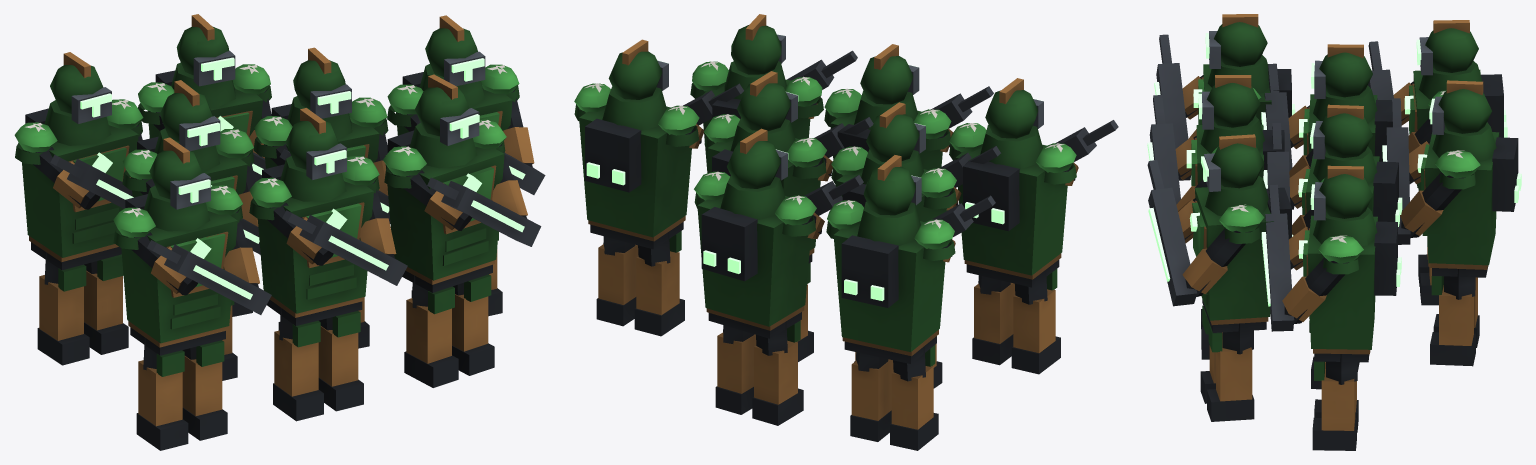
File: squad_dl8_green.glb
3 renders of one model, left to right at view 1: azimuth 30°, elevation 25°; view 2: azimuth 150°, elevation 25°; view 3: azimuth 270°, elevation 25°, orthographic. The views are drawn at different scales.
Parts seen in each view (by area): view 1: squad_dl8_green; view 2: squad_dl8_green; view 3: squad_dl8_green.
Boxes of the visible parts, box(x1,y1,x2,y2) form: squad_dl8_green: box(14, 14, 545, 450); squad_dl8_green: box(574, 14, 1118, 450); squad_dl8_green: box(1147, 14, 1521, 450).
Bounding box in the file's own units: 0.6966 × 0.4109 × 0.5206.
Materials: 2 (1 with a texture image).
